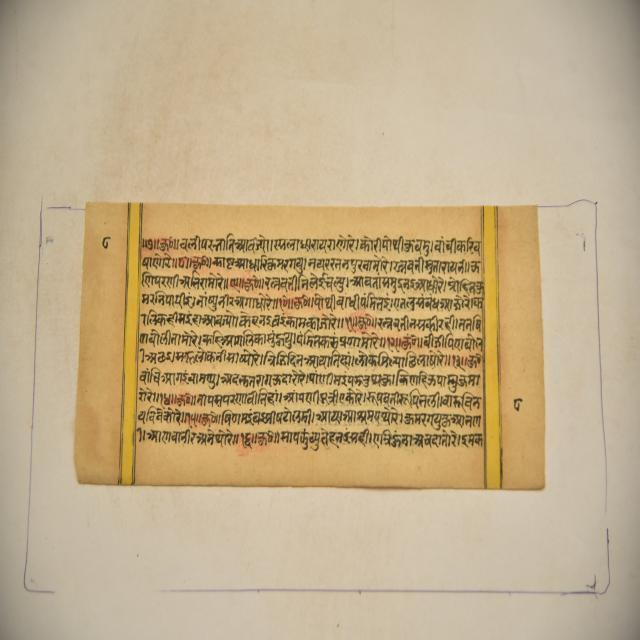text_paragraph: (77, 204, 544, 491)
